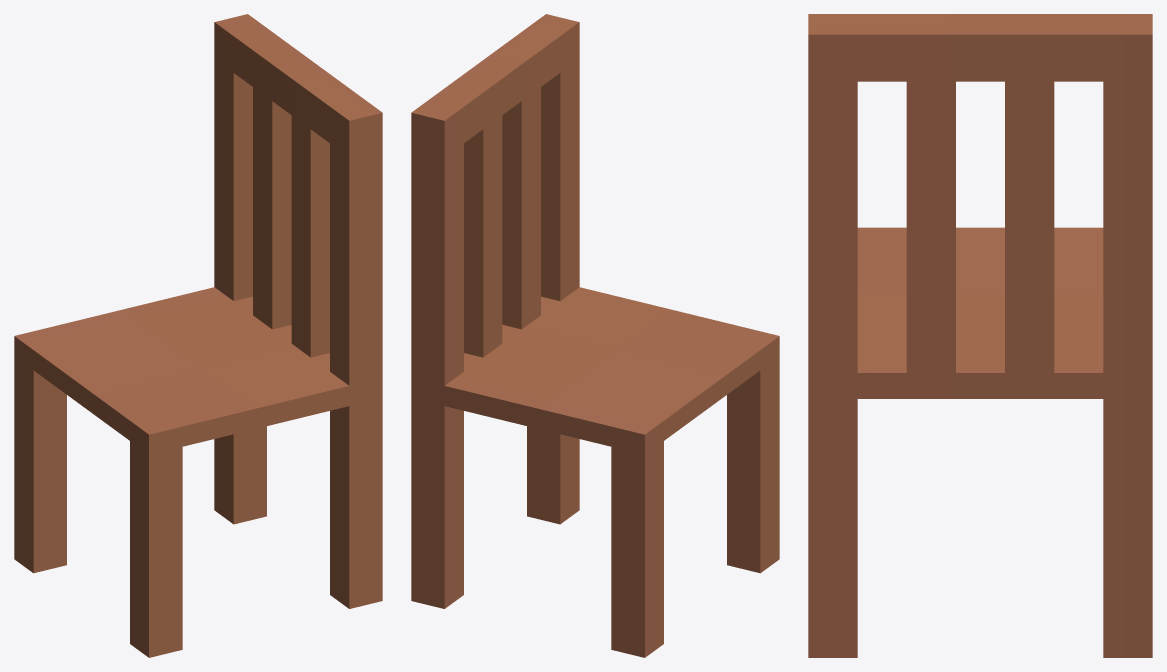
File: Chair.fbx
The picture shows the model from 3 angles, left to right: view 1: azimuth 30°, elevation 25°; view 2: azimuth 150°, elevation 25°; view 3: azimuth 270°, elevation 25°; orthographic projection. The views are drawn at different scales.
Visible parts, largest first — view 1: Chair; view 2: Chair; view 3: Chair.
Part boxes in pixels (x1=…): Chair: x1=14, y1=14, x2=382, y2=657; Chair: x1=411, y1=14, x2=779, y2=657; Chair: x1=808, y1=14, x2=1152, y2=657.
Bounding box in the file's own units: 118 × 236 × 118.
1 material, 1 textured.
